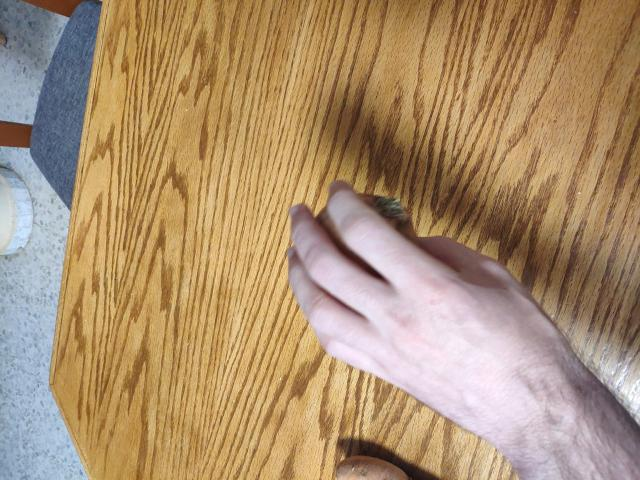onion: (304, 191, 426, 296)
